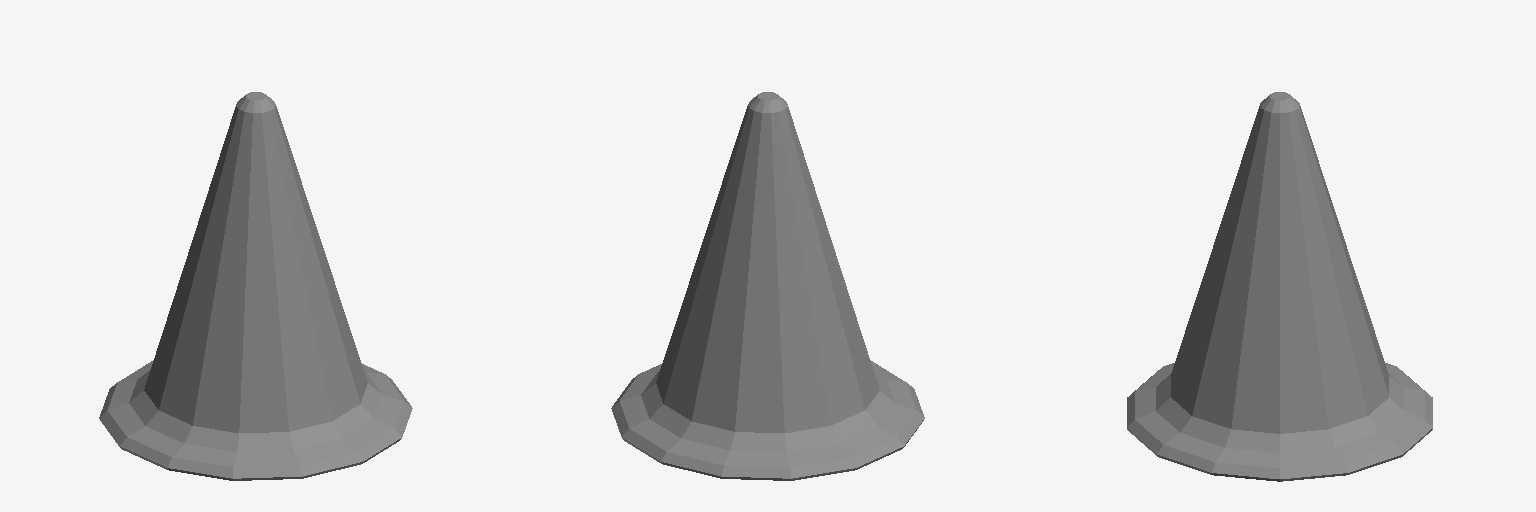
File: cono.obj
The picture shows the model from 3 angles: view 1: azimuth 30°, elevation 25°; view 2: azimuth 150°, elevation 25°; view 3: azimuth 270°, elevation 25°; orthographic projection.
Size of the model in its own units: 11.85 by 13.29 by 11.55.